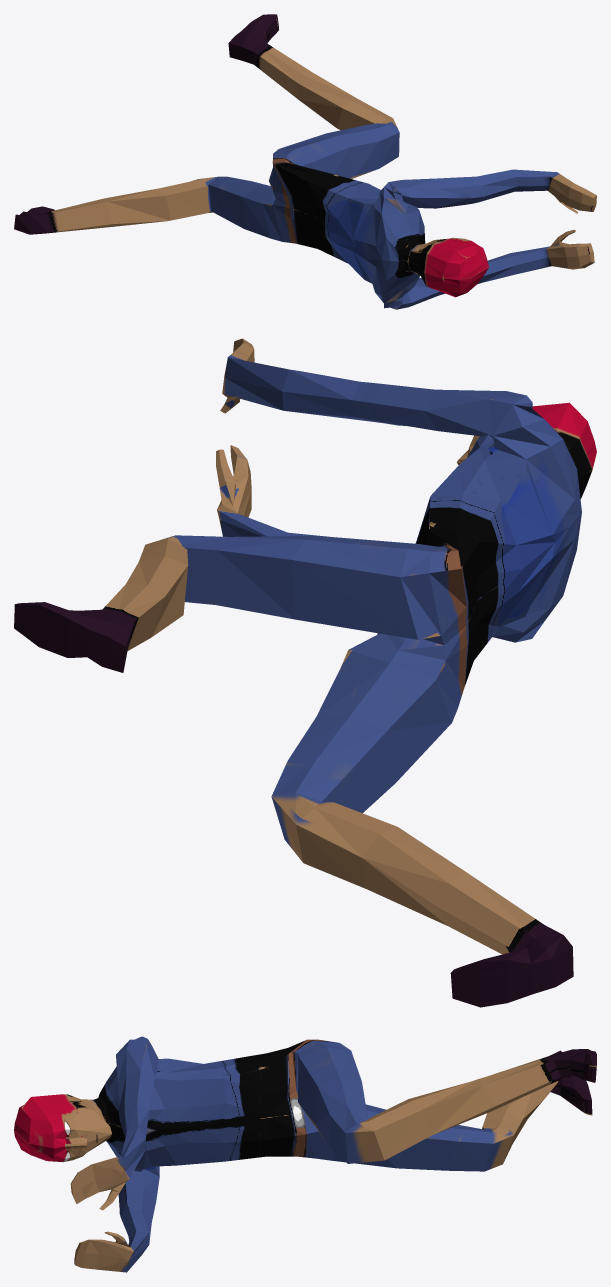
File: mirrorman_000022.obj
3 views of the same model, one above another, from view 1: azimuth 30°, elevation 25°; view 2: azimuth 150°, elevation 25°; view 3: azimuth 270°, elevation 25° (orthographic). The views are drawn at different scales.
Parts seen in each view (by area): view 1: mirrorman_Cube.001_Material.001; view 2: mirrorman_Cube.001_Material.001; view 3: mirrorman_Cube.001_Material.001.
Boxes of the visible parts, box(x1,y1,x2,y2) form: mirrorman_Cube.001_Material.001: box(14, 14, 596, 309); mirrorman_Cube.001_Material.001: box(14, 338, 596, 1007); mirrorman_Cube.001_Material.001: box(14, 1036, 596, 1272).
Size of the model in its own units: 1.37 by 0.5413 by 1.51.
Materials: 1 (1 with a texture image).
